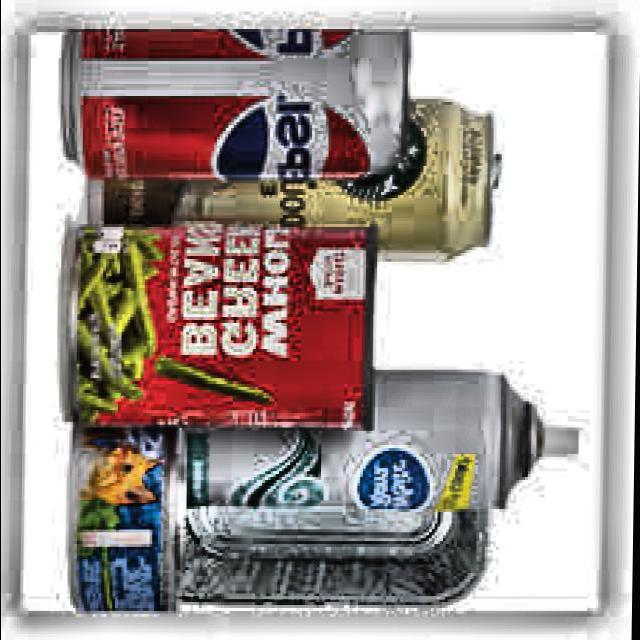litter: (79, 89, 508, 266), (51, 214, 386, 436), (174, 365, 586, 515), (53, 20, 414, 186), (175, 476, 500, 614), (62, 419, 190, 623)
